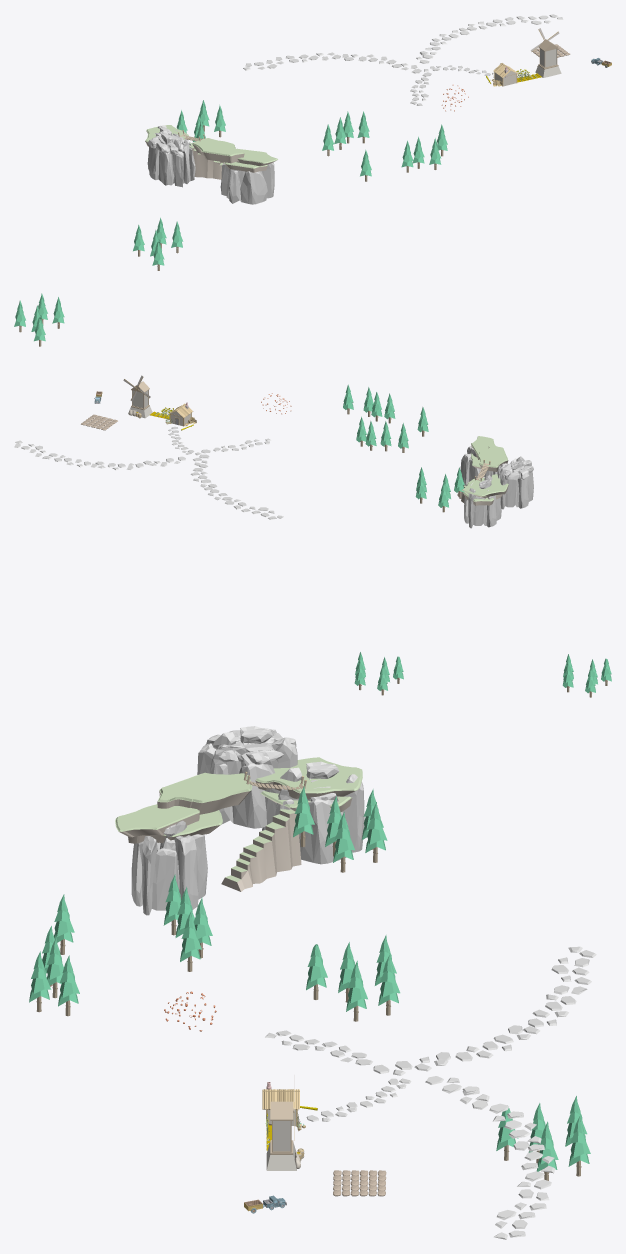
3 renders of one model, top to bottom at view 1: azimuth 30°, elevation 25°; view 2: azimuth 150°, elevation 25°; view 3: azimuth 270°, elevation 25°, orthographic. The views are drawn at different scales.
Parts seen in each view (by area): view 1: node_Prop_Bridge_Wooden_Hanging_Long_01_-351428, node_treeG_-351536, node_house_-351420, node_stoneroad_233686, node_stoneroad_233900, node_stoneroad_235596; view 2: node_Prop_Bridge_Wooden_Hanging_Long_01_-351428, node_treeG_-351536, node_house_-351420, node_stoneroad_233900, node_stoneroad_233686, node_stoneroad_235596; view 3: node_Prop_Bridge_Wooden_Hanging_Long_01_-351428, node_treeG_-351536, node_stoneroad_233686, node_stoneroad_233900, node_house_-351420, node_stoneroad_235596, node__dao536_1_233136.
Boxes of the visible parts, x1,y1,x2,y2 form: node_Prop_Bridge_Wooden_Hanging_Long_01_-351428: [145, 125, 277, 204]; node_treeG_-351536: [14, 100, 447, 346]; node_house_-351420: [486, 28, 561, 86]; node_stoneroad_233686: [416, 14, 563, 63]; node_stoneroad_233900: [243, 52, 431, 76]; node_stoneroad_235596: [410, 65, 494, 105]; node_Prop_Bridge_Wooden_Hanging_Long_01_-351428: [457, 436, 533, 528]; node_treeG_-351536: [343, 384, 611, 697]; node_house_-351420: [123, 375, 196, 430]; node_stoneroad_233900: [190, 449, 283, 519]; node_stoneroad_233686: [14, 440, 185, 470]; node_stoneroad_235596: [168, 426, 271, 454]; node_Prop_Bridge_Wooden_Hanging_Long_01_-351428: [115, 726, 364, 915]; node_treeG_-351536: [29, 786, 590, 1180]; node_stoneroad_233686: [425, 1076, 554, 1239]; node_stoneroad_233900: [373, 946, 596, 1075]; node_house_-351420: [262, 1075, 317, 1170]; node_stoneroad_235596: [265, 1030, 411, 1121]; node__dao536_1_233136: [333, 1170, 386, 1196].
Size of what is drawn, in the model's own units: 130 by 43.55 by 57.84.
